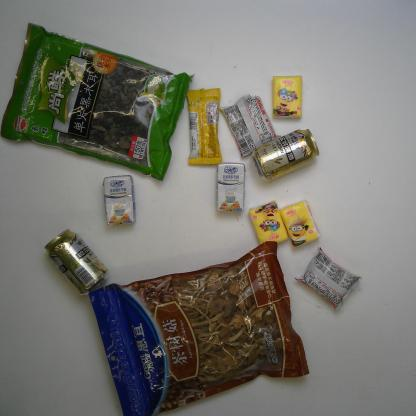Alcohol: (44, 228, 110, 296), (251, 128, 320, 182)
Chocolate: (186, 87, 222, 165)
Dessert: (294, 246, 363, 311), (220, 94, 282, 157)
Dried Food: (88, 240, 310, 416), (0, 22, 196, 181)
Milk: (102, 174, 137, 226), (216, 162, 246, 212)
Tissue: (279, 199, 320, 248), (249, 199, 289, 245), (272, 75, 302, 118)
